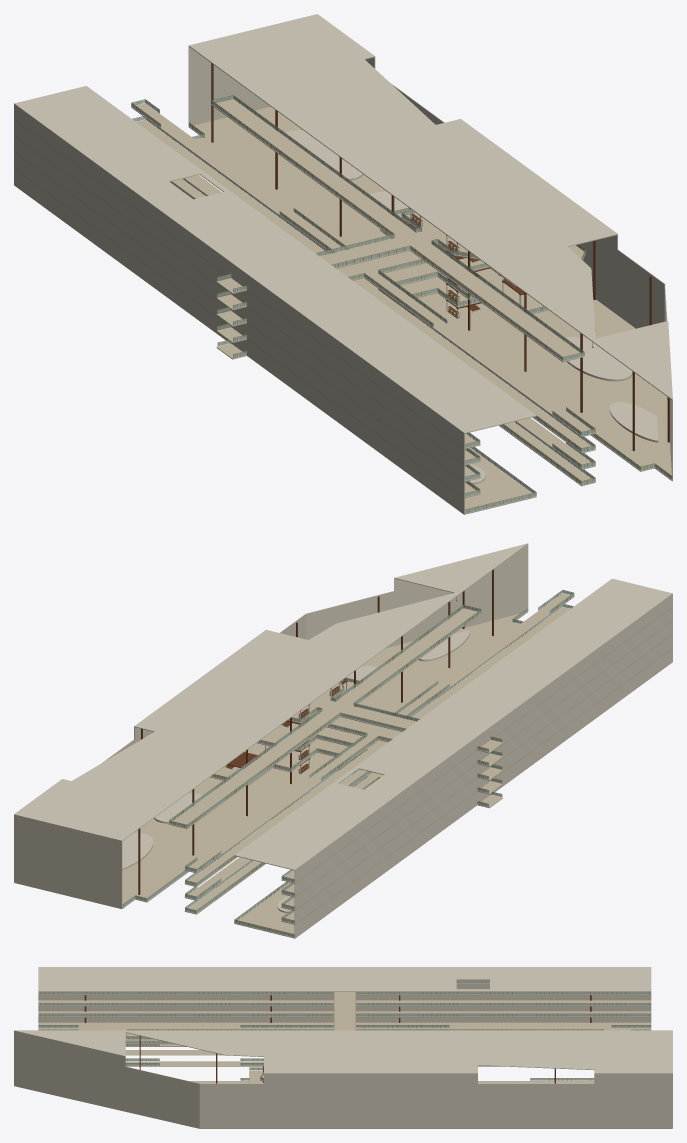
File: FAMILY_TERRACE_ARCHITECTURE_lift_r003.glb
3 renders of one model, top to bottom at view 1: azimuth 30°, elevation 25°; view 2: azimuth 150°, elevation 25°; view 3: azimuth 270°, elevation 25°, orthographic. The views are drawn at different scales.
Visible parts, largest first — view 1: FT_Batch_376, FT_Batch_377, FT_Batch_0, FT_Batch_263, FT_Batch_228, FT_Batch_195, FT_Batch_211, FT_Batch_244, FT_Batch_139, FT_Batch_101, FT_Batch_140, FT_Batch_100 (+23 smaller); view 2: FT_Batch_376, FT_Batch_377, FT_Batch_0, FT_Batch_263, FT_Batch_195, FT_Batch_228, FT_Batch_244, FT_Batch_211, FT_Batch_139, FT_Batch_100, FT_Batch_395, FT_Batch_140 (+25 smaller); view 3: FT_Batch_376, FT_Batch_377, FT_Batch_397, FT_Batch_398, FT_Batch_400, FT_Batch_399, FT_Batch_195, FT_Batch_211, FT_Batch_228, FT_Batch_1, FT_Batch_263, FT_Batch_32 (+28 smaller).
Part boxes in pixels (x1,y1,x2,y2): FT_Batch_376: [189, 14, 672, 399]; FT_Batch_377: [14, 86, 536, 433]; FT_Batch_0: [189, 106, 672, 481]; FT_Batch_263: [14, 103, 617, 448]; FT_Batch_228: [14, 136, 464, 481]; FT_Batch_195: [14, 169, 464, 513]; FT_Batch_211: [14, 153, 464, 497]; FT_Batch_244: [14, 120, 464, 464]; FT_Batch_139: [14, 99, 415, 277]; FT_Batch_101: [247, 274, 595, 465]; FT_Batch_140: [410, 244, 584, 362]; FT_Batch_100: [14, 103, 345, 294]; FT_Batch_376: [14, 543, 527, 840]; FT_Batch_377: [234, 578, 671, 870]; FT_Batch_0: [14, 611, 527, 908]; FT_Batch_263: [134, 593, 672, 882]; FT_Batch_195: [294, 648, 672, 937]; FT_Batch_228: [294, 621, 672, 910]; FT_Batch_244: [294, 607, 672, 896]; FT_Batch_211: [294, 635, 672, 923]; FT_Batch_139: [168, 712, 476, 883]; FT_Batch_100: [184, 736, 476, 897]; FT_Batch_395: [306, 556, 528, 627]; FT_Batch_140: [336, 608, 481, 706]; FT_Batch_376: [15, 1030, 672, 1073]; FT_Batch_377: [38, 967, 651, 991]; FT_Batch_397: [199, 1117, 672, 1128]; FT_Batch_398: [199, 1106, 672, 1117]; FT_Batch_400: [199, 1083, 672, 1094]; FT_Batch_399: [199, 1095, 672, 1105]; FT_Batch_195: [38, 1017, 651, 1022]; FT_Batch_211: [38, 1006, 651, 1011]; FT_Batch_228: [38, 995, 651, 1000]; FT_Batch_1: [38, 1022, 651, 1046]; FT_Batch_263: [38, 967, 650, 1083]; FT_Batch_32: [38, 1011, 333, 1055].
Bounding box in the file's own units: 96.09 × 22.54 × 241.
Materials: 8 (6 with a texture image).
